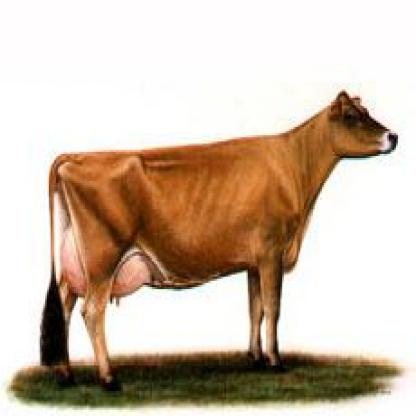cow: (40, 89, 400, 396)
